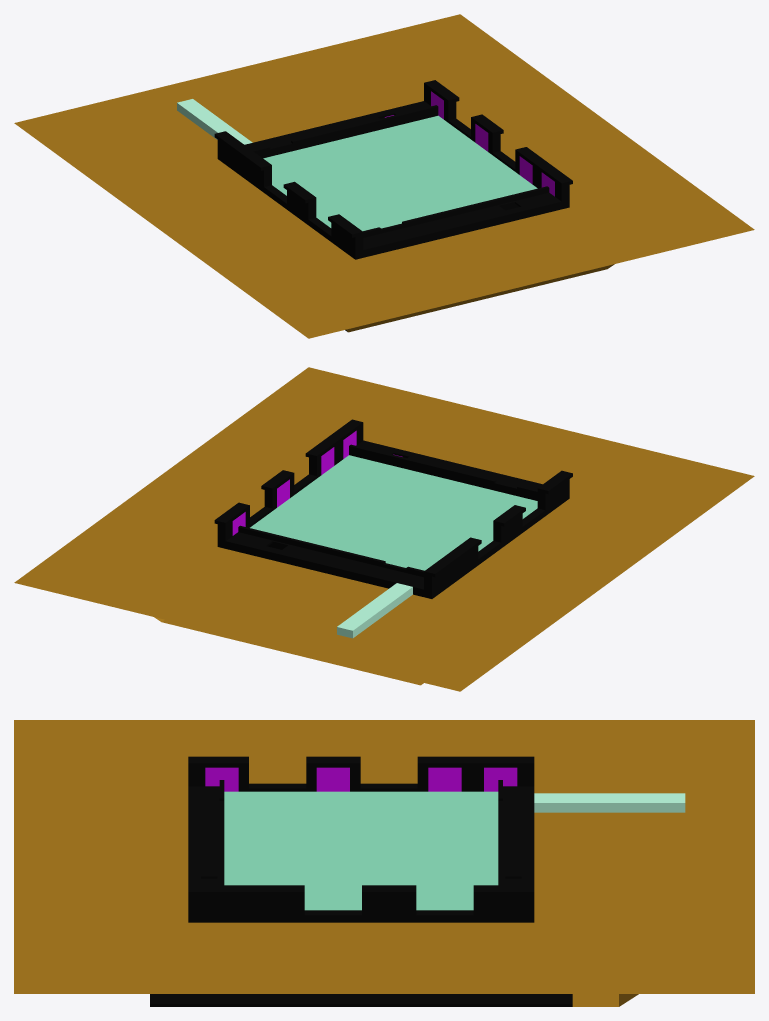
3 views of the same model, one above another, from view 1: azimuth 30°, elevation 25°; view 2: azimuth 150°, elevation 25°; view 3: azimuth 270°, elevation 25° (orthographic). The views are drawn at different scales.
Size of the model in its own units: 27.9 by 4.9 by 31.9.
